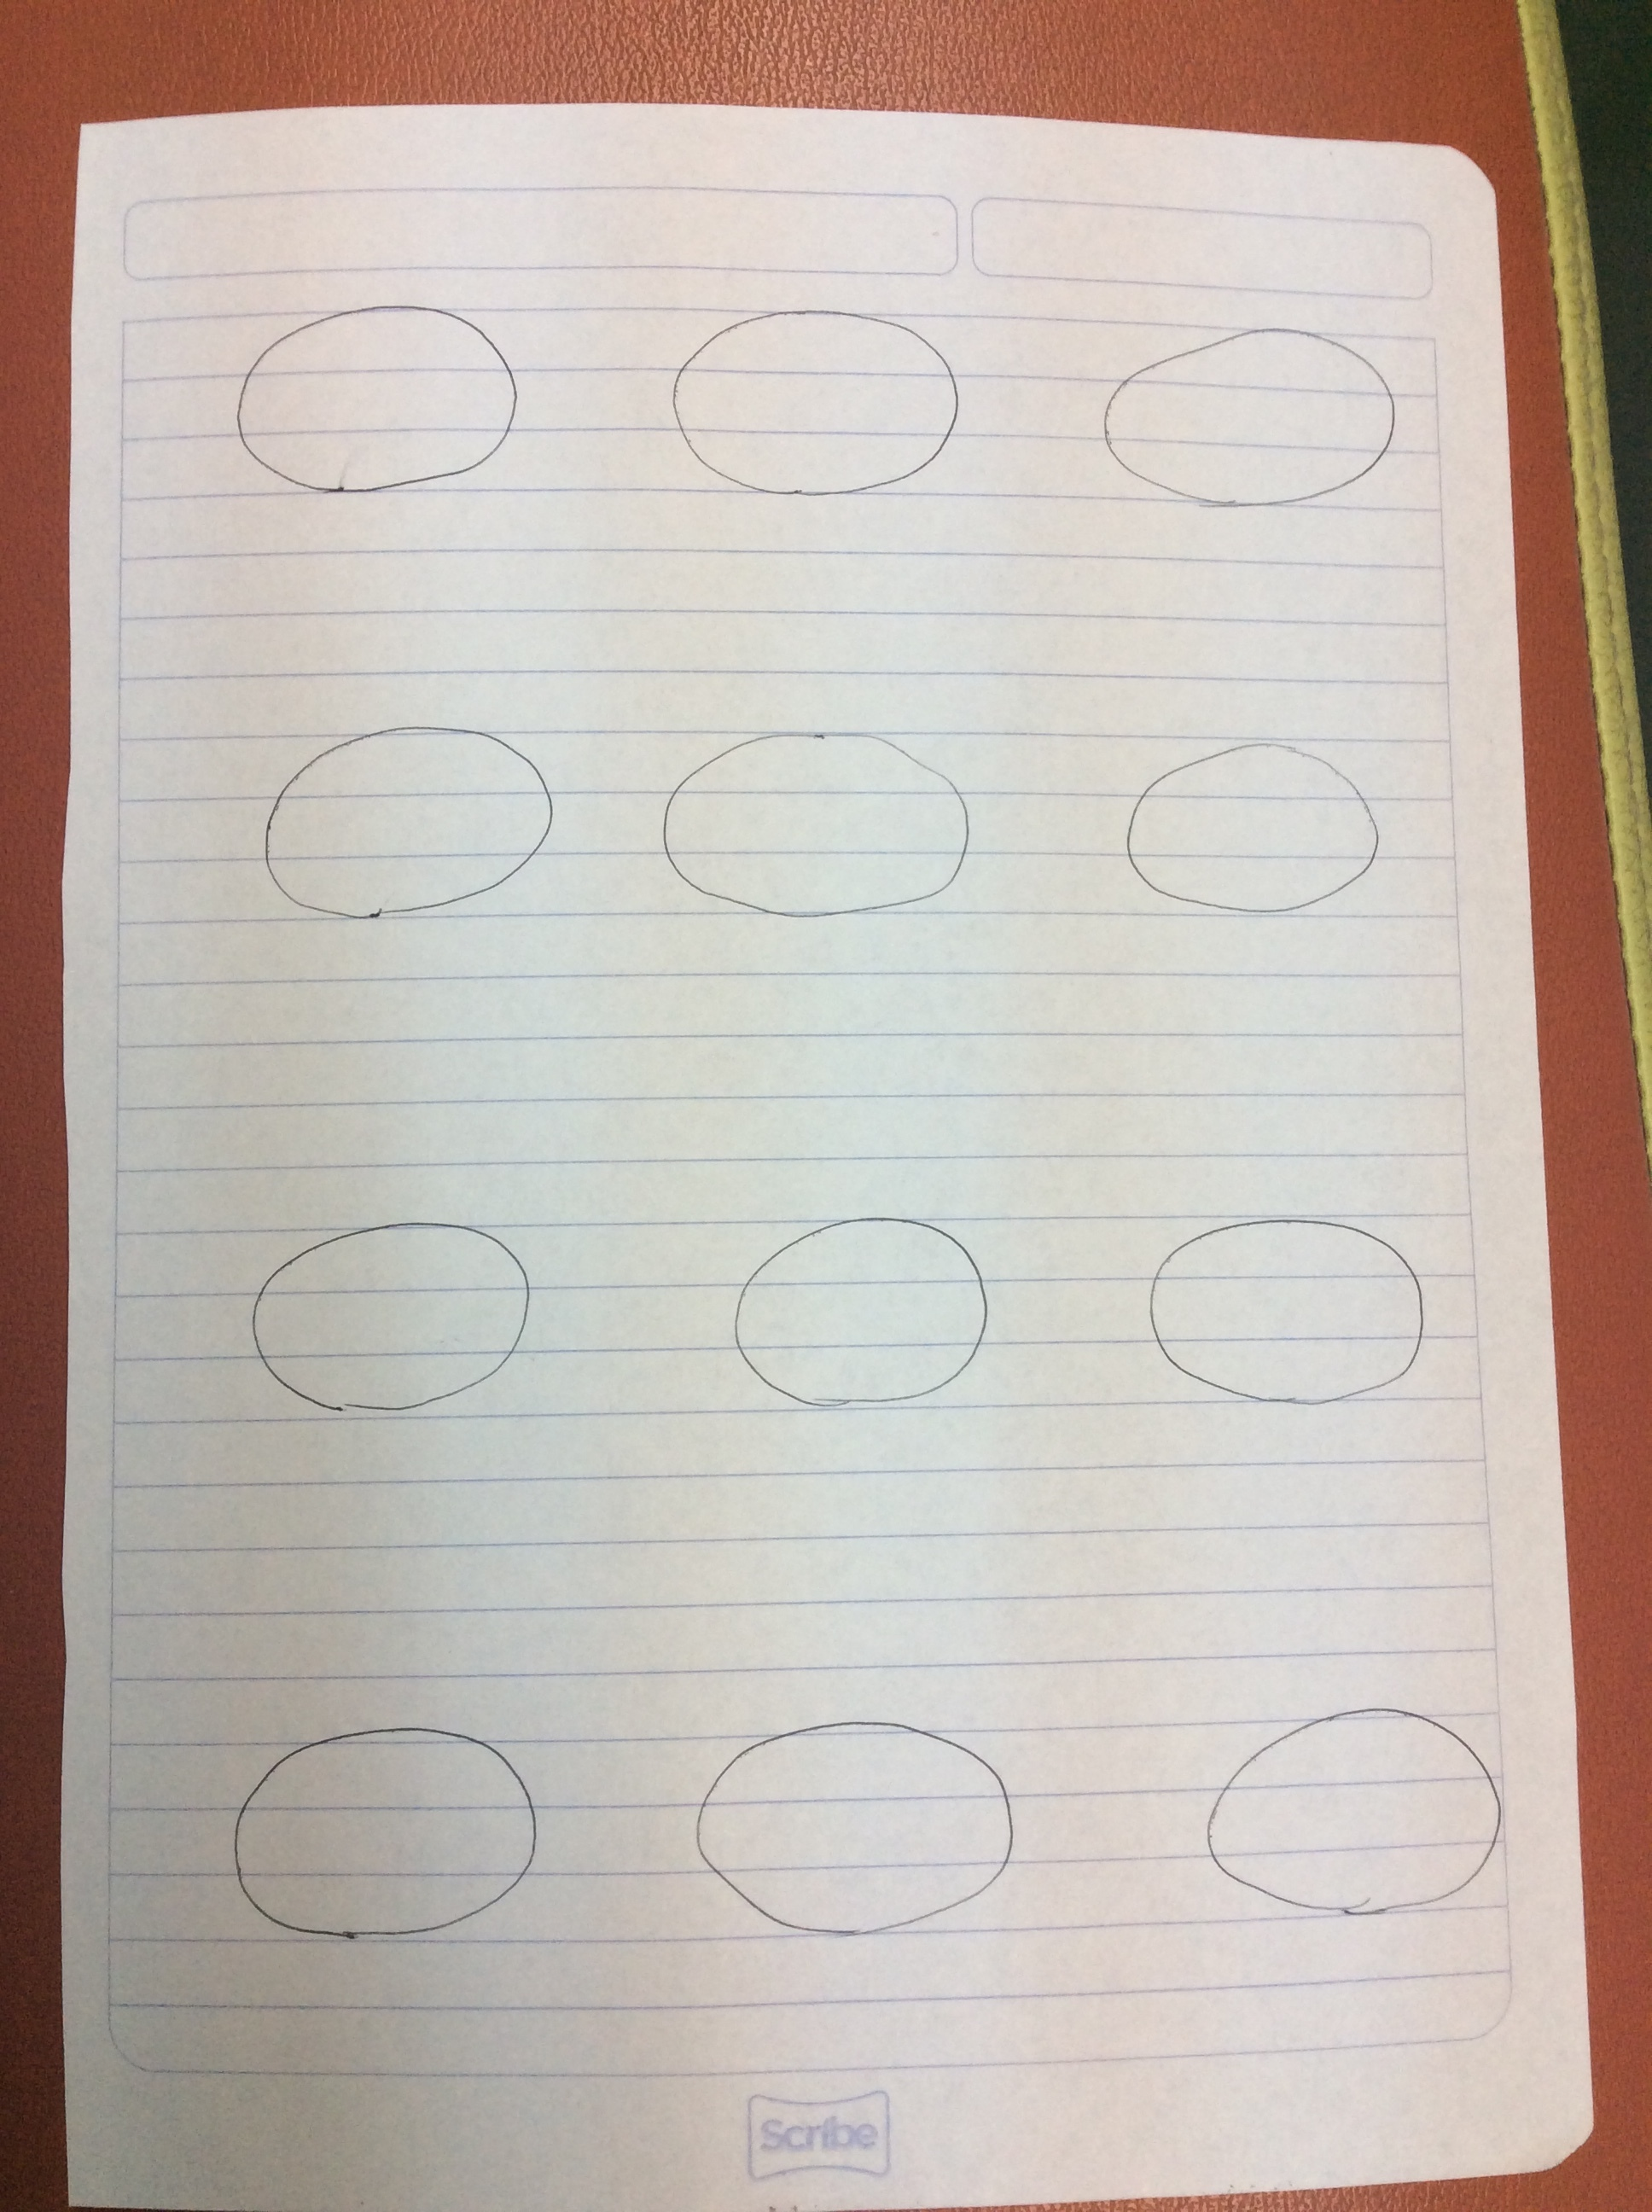start_end: (186, 1693, 555, 1973), (658, 1690, 1029, 1966), (1159, 1683, 1527, 1940), (196, 692, 571, 942), (1064, 276, 1414, 533), (1100, 1181, 1449, 1430), (640, 706, 980, 952), (206, 1195, 548, 1436), (1074, 703, 1400, 949), (673, 1199, 1012, 1430), (210, 276, 534, 515), (651, 297, 972, 512)
